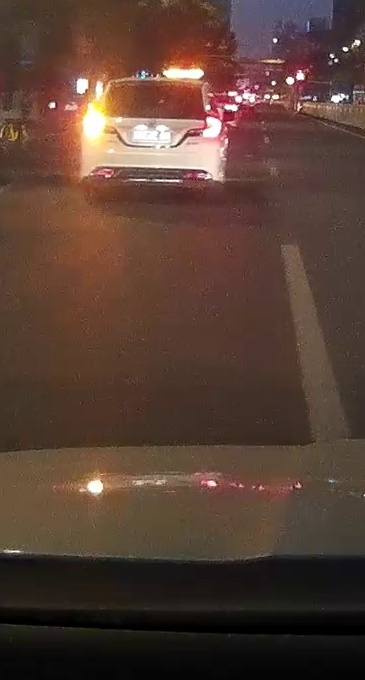L_light: (83, 109, 106, 140)
R_light: (201, 115, 223, 139)
T_light: (147, 79, 173, 84)
night-left: (78, 78, 224, 197)
